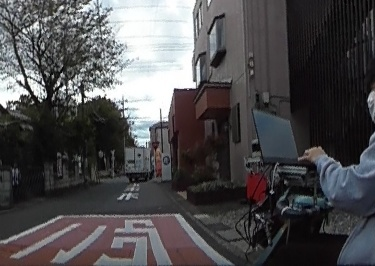person: (282, 49, 375, 266)
